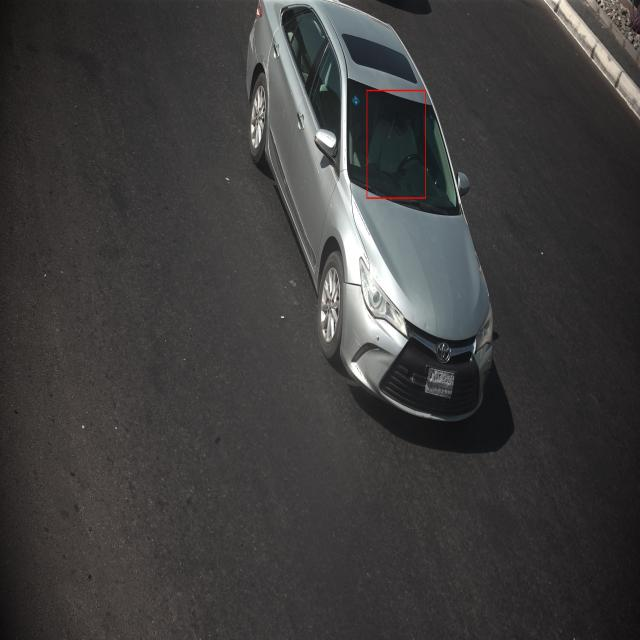windshield: (344, 74, 463, 222)
